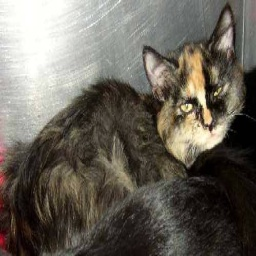cat: (7, 4, 256, 256)
